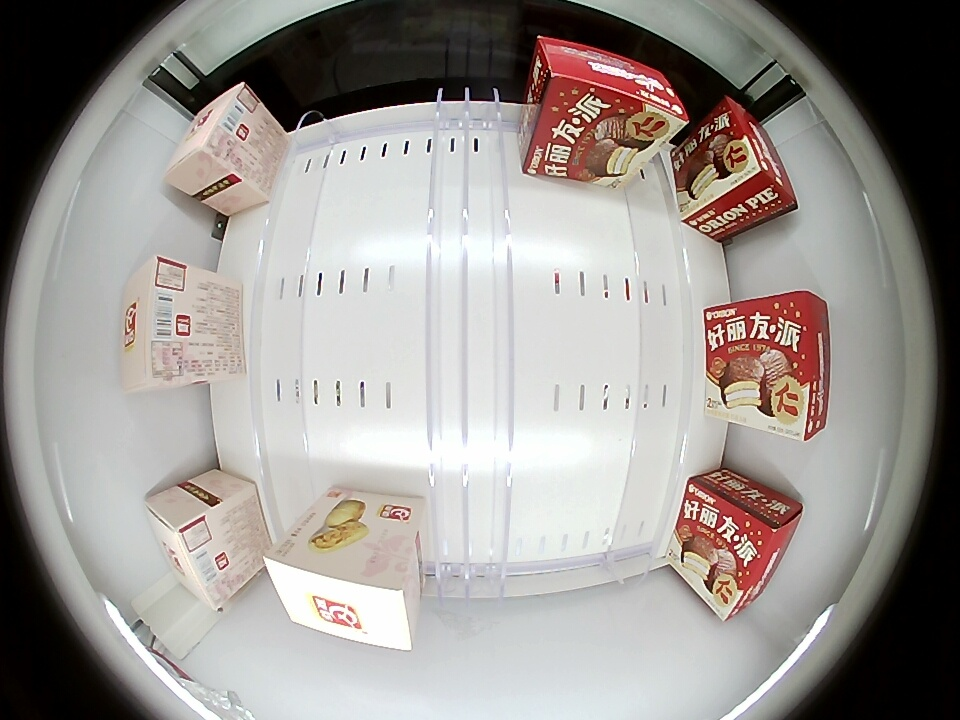haoliyou: (525, 38, 687, 162), (695, 491, 803, 621), (738, 292, 829, 442), (696, 97, 798, 219)
rousongbing: (263, 527, 418, 651), (145, 482, 243, 612), (164, 83, 267, 203), (122, 255, 208, 392)
